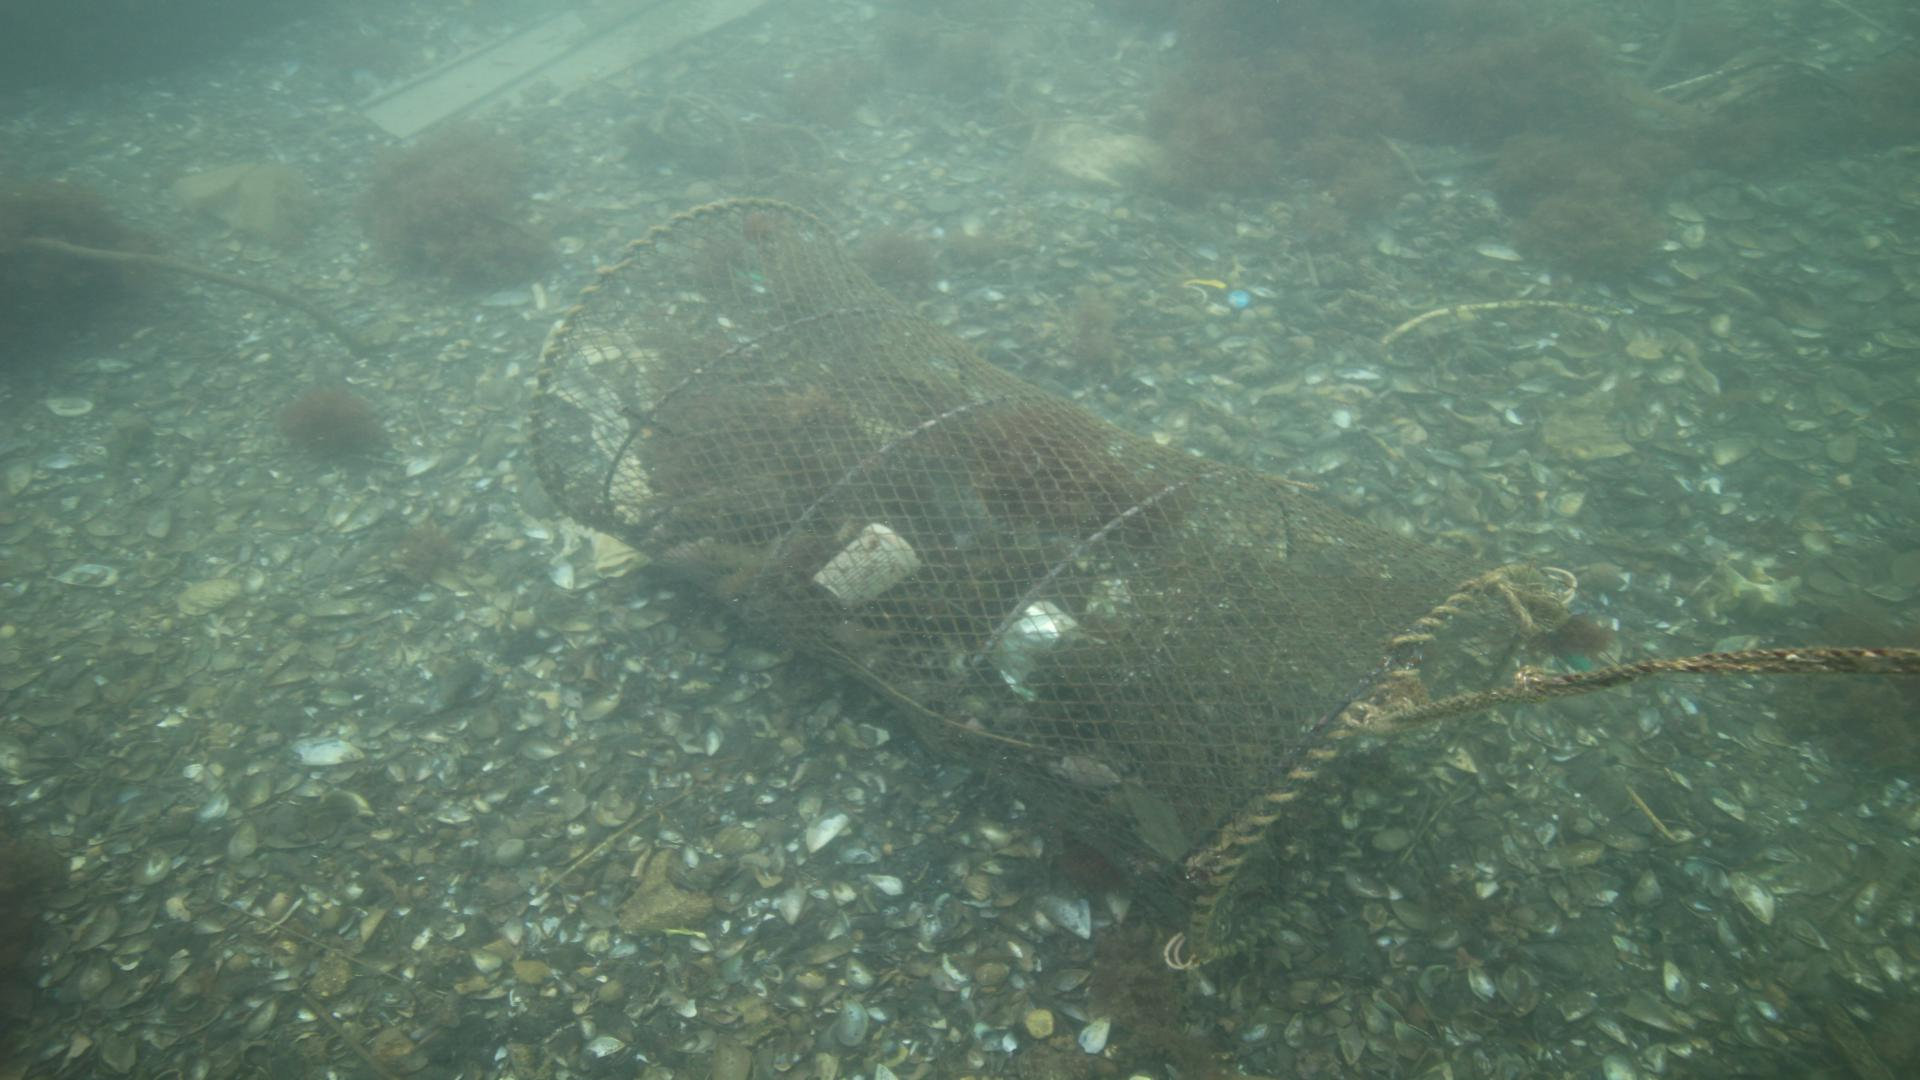rope: (1379, 637, 1911, 728)
spring fish trap: (526, 196, 1547, 963)
